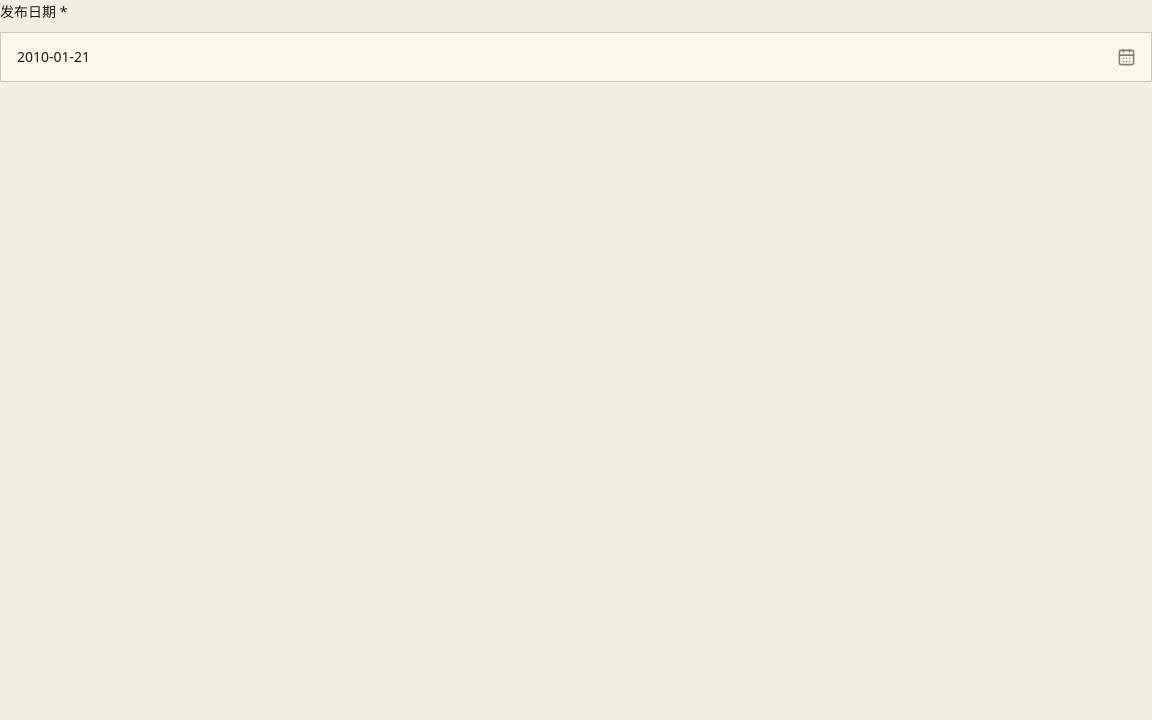
Test case: accessible museum interactions › selects a date with an accessible calendar
The width and height of the screenshot is (1152, 720).
What coordinates should you click on to do the following:
click the button named "打开日期选择框"
I would click on:
 (1126, 57)
Its box is [1113, 44, 1140, 71].
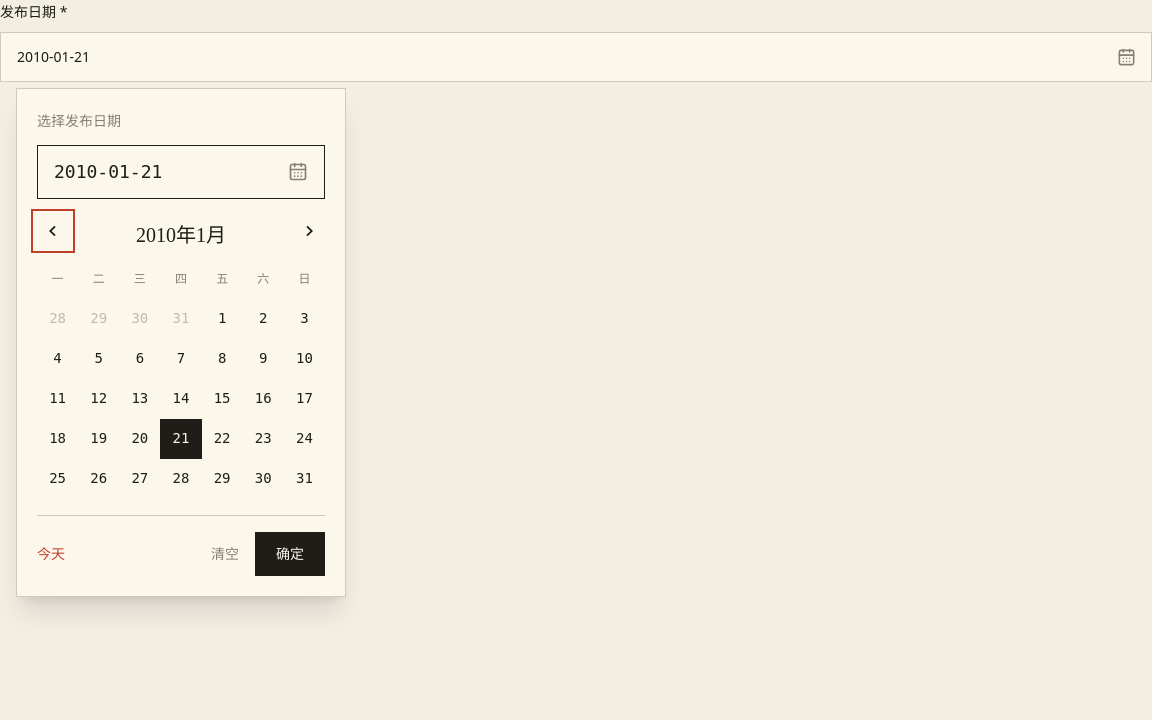
Check: the dialog is shown, box [16, 88, 346, 597]
What coordinates should you click on to do the following:
click the button "清空"
I would click on:
 (225, 554)
Its box is [211, 542, 239, 566].
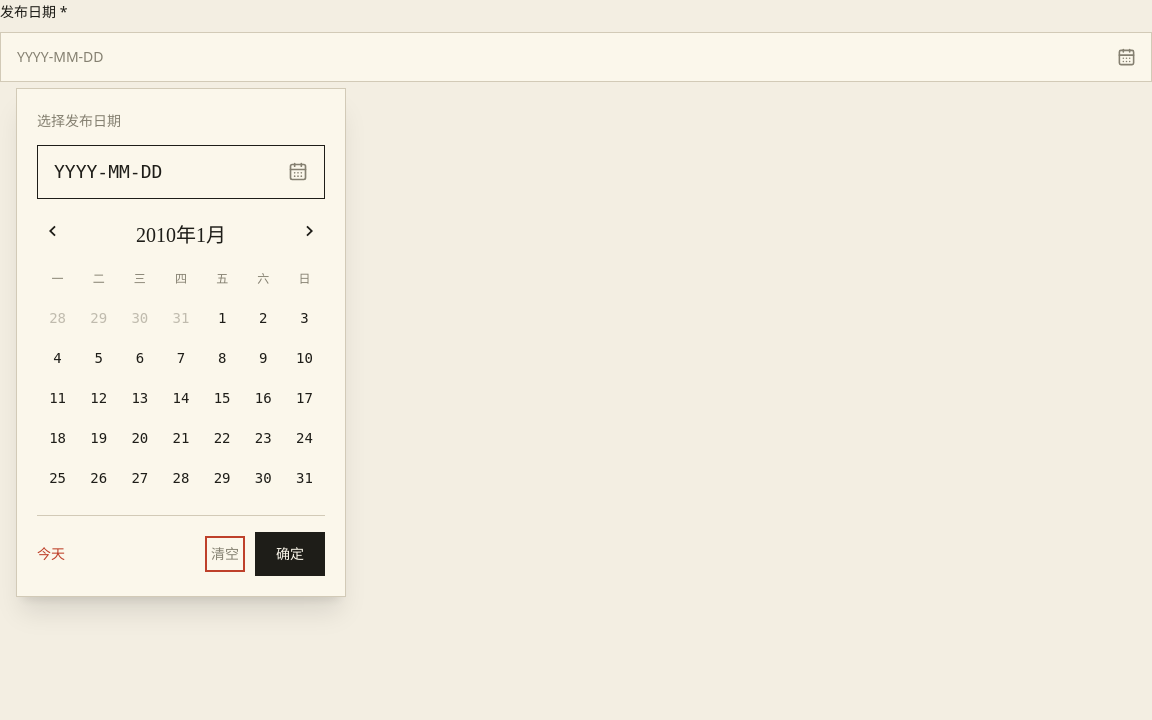
What coordinates should you click on to do the following:
click the button "确定"
I would click on:
 (290, 554)
Its box is [255, 532, 325, 576].
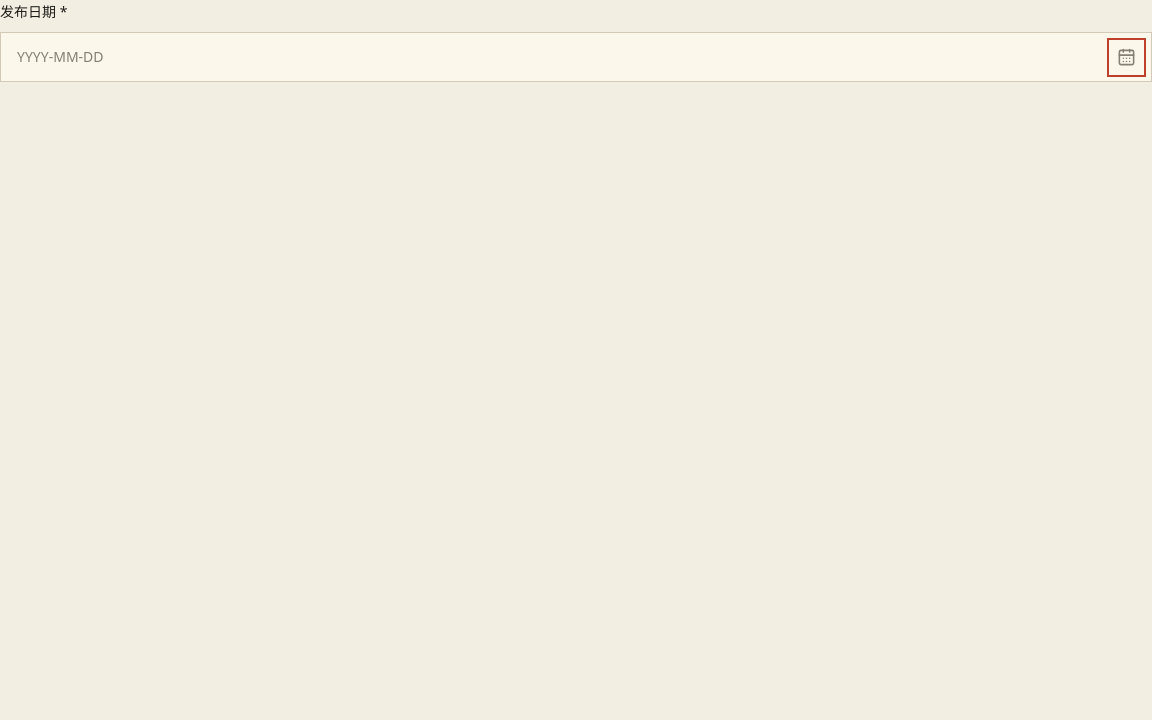
Check: the field labelled "发布日期 *" is empty, box [0, 32, 1151, 82]
